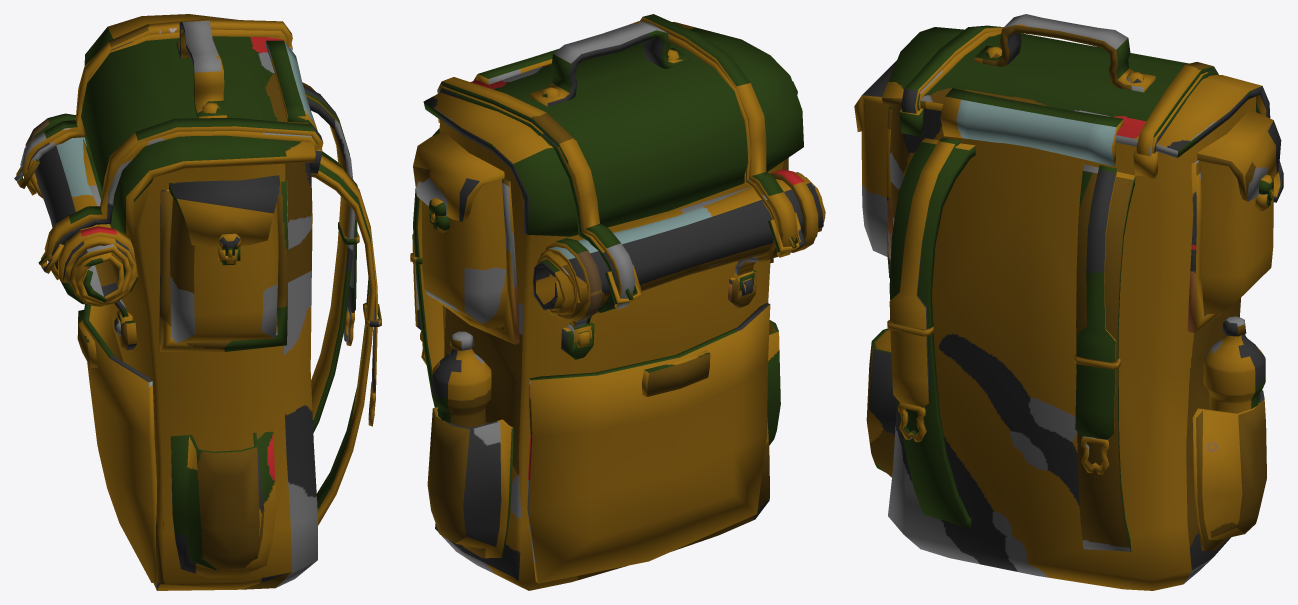
Rendered from bagpack.fbx.
3 renders of one model, left to right at view 1: azimuth 30°, elevation 25°; view 2: azimuth 150°, elevation 25°; view 3: azimuth 270°, elevation 25°, orthographic. The views are drawn at different scales.
Parts seen in each view (by area): view 1: bagpack; view 2: bagpack; view 3: bagpack.
Part boxes in pixels (x1,y1,x2,y2): bagpack: [14, 14, 381, 590]; bagpack: [410, 14, 825, 590]; bagpack: [854, 14, 1283, 590].
Size of the model in its own units: 0.7191 by 0.9843 by 0.7375.
Materials: 1 (1 with a texture image).
